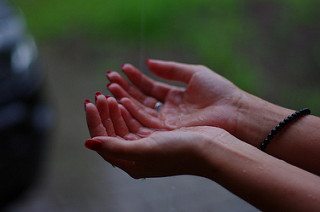palm: (164, 90, 221, 122)
